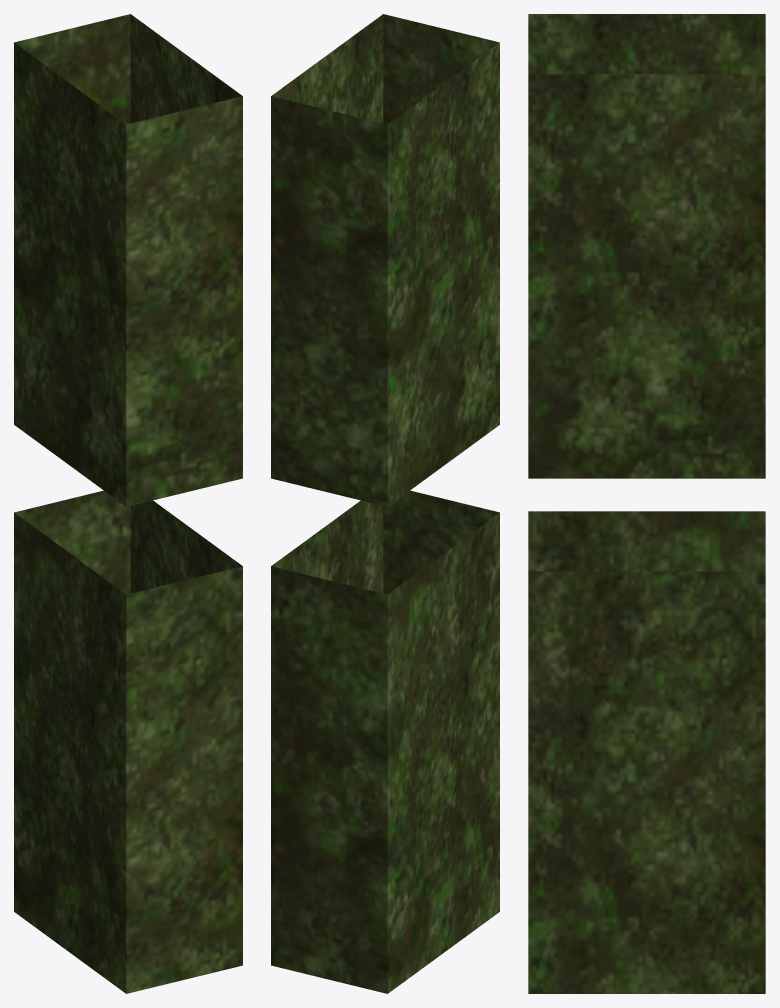
File: OVERHILL_A_01_OBJECT275.fbx
The picture shows the model from 3 angles, left to right: view 1: azimuth 30°, elevation 25°; view 2: azimuth 150°, elevation 25°; view 3: azimuth 270°, elevation 25°; orthographic projection. The views are drawn at different scales.
Visible parts, largest first — view 1: OVERHILL_A_01_OBJECT275; view 2: OVERHILL_A_01_OBJECT275; view 3: OVERHILL_A_01_OBJECT275.
Boxes of the visible parts, bbox=[...] form: OVERHILL_A_01_OBJECT275: bbox=[14, 14, 242, 993]; OVERHILL_A_01_OBJECT275: bbox=[271, 14, 499, 993]; OVERHILL_A_01_OBJECT275: bbox=[528, 14, 765, 993].
Bounding box in the file's own units: 7452 × 53101 × 12431.
1 material, 1 textured.
